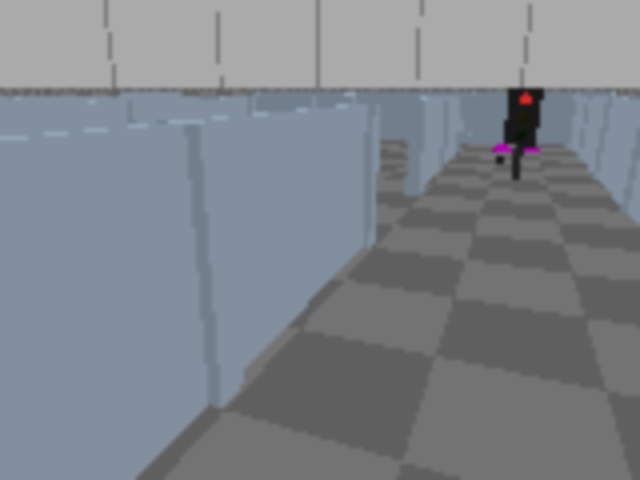traffic_light: (499, 83, 544, 183)
